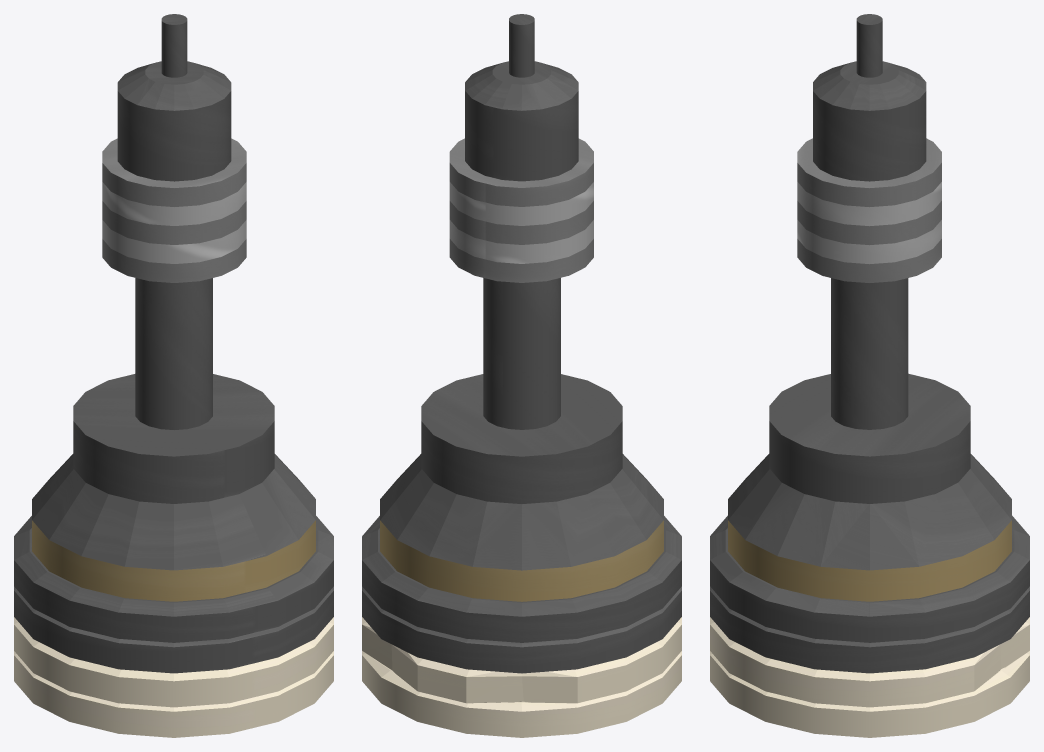
Rendered from 去头版.FBX.
The picture shows the model from 3 angles, left to right: view 1: azimuth 30°, elevation 25°; view 2: azimuth 150°, elevation 25°; view 3: azimuth 270°, elevation 25°; orthographic projection.
Parts seen in each view (by area): view 1: Cylinder031; view 2: Cylinder031; view 3: Cylinder031.
Boxes of the visible parts, <box> form: Cylinder031: <box>14,14,333,737</box>; Cylinder031: <box>362,14,681,737</box>; Cylinder031: <box>710,14,1029,737</box>.
Bounding box in the file's own units: 12.4 × 27.37 × 12.21.
Materials: 9 (9 with a texture image).
